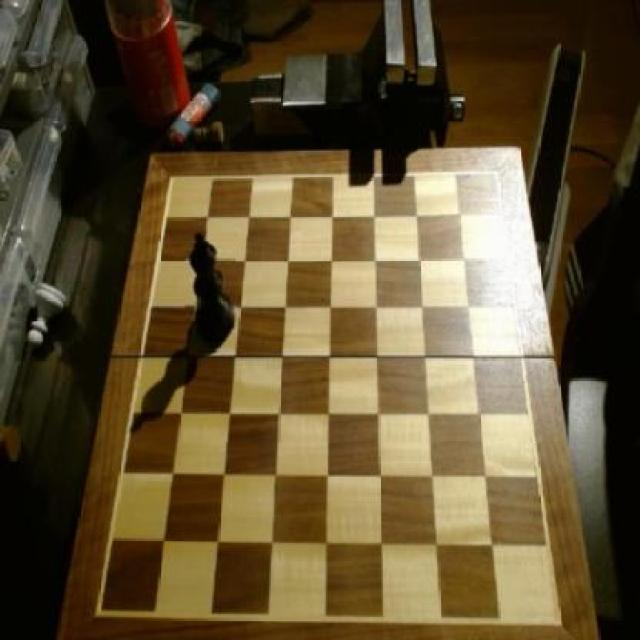black-bishop: (185, 232, 236, 353)
